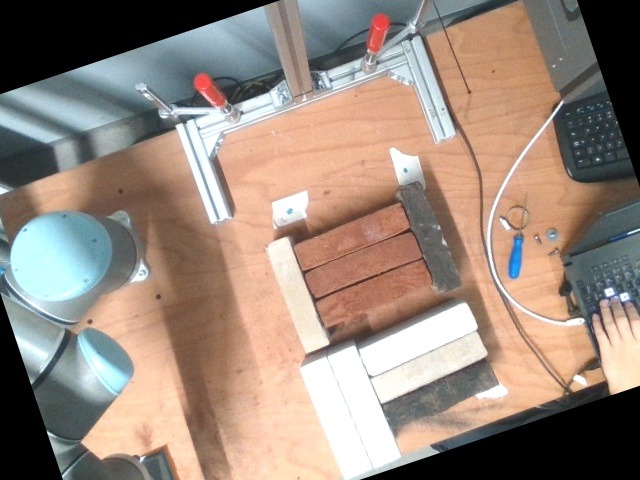brick-side: (330, 350, 399, 468), (303, 361, 372, 479), (363, 306, 475, 373), (373, 334, 485, 401), (385, 361, 497, 428), (307, 232, 420, 297), (317, 260, 430, 325), (297, 206, 409, 270), (400, 183, 463, 294), (266, 239, 327, 351)
